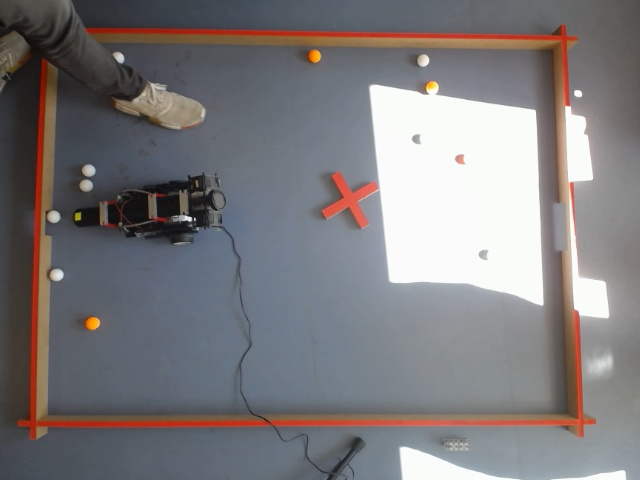orange: (82, 315, 103, 333), (423, 79, 440, 96), (306, 48, 322, 65)
robot: (97, 170, 226, 244)
white: (573, 470, 629, 480), (590, 469, 629, 480), (48, 267, 66, 283), (415, 53, 430, 69), (80, 163, 96, 178), (46, 209, 61, 224), (78, 178, 93, 192), (112, 50, 124, 64), (572, 88, 583, 99), (74, 211, 81, 221)
